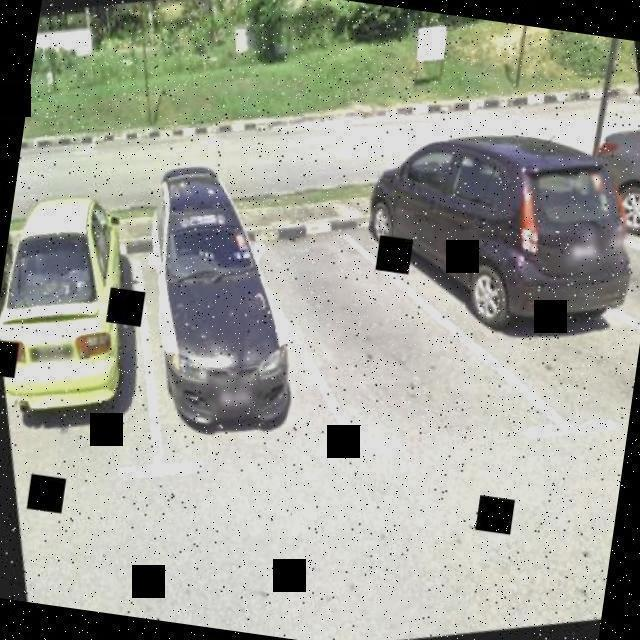empty: (238, 200, 502, 484)
occupied: (86, 101, 351, 498), (336, 74, 640, 404), (0, 161, 176, 457), (573, 69, 640, 242)
